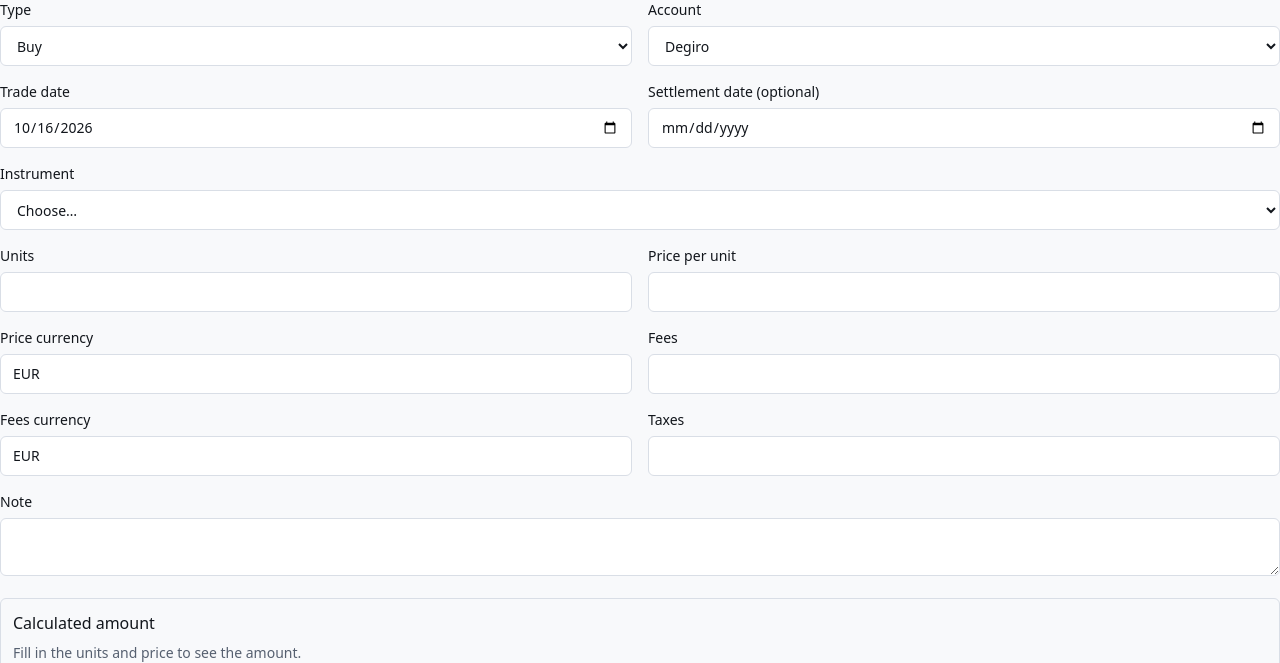
Scenario: the form › prefills the ECB rate and says which day it is from
The image size is (1280, 663).
Select "Acme Corp (ACME)" in the dropdown labelled "Instrument": (640,210) [0,190,1279,230]
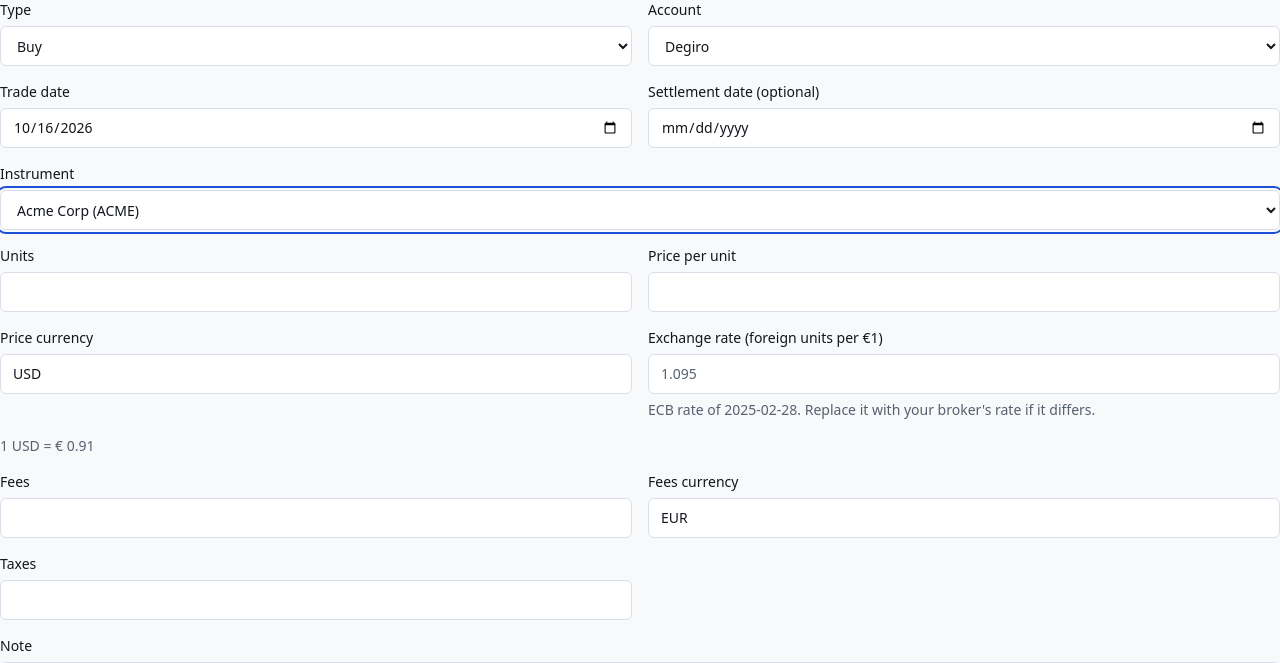
Now the text "ECB rate of 2025-02-28" is shown, box [648,400,1095,419]
